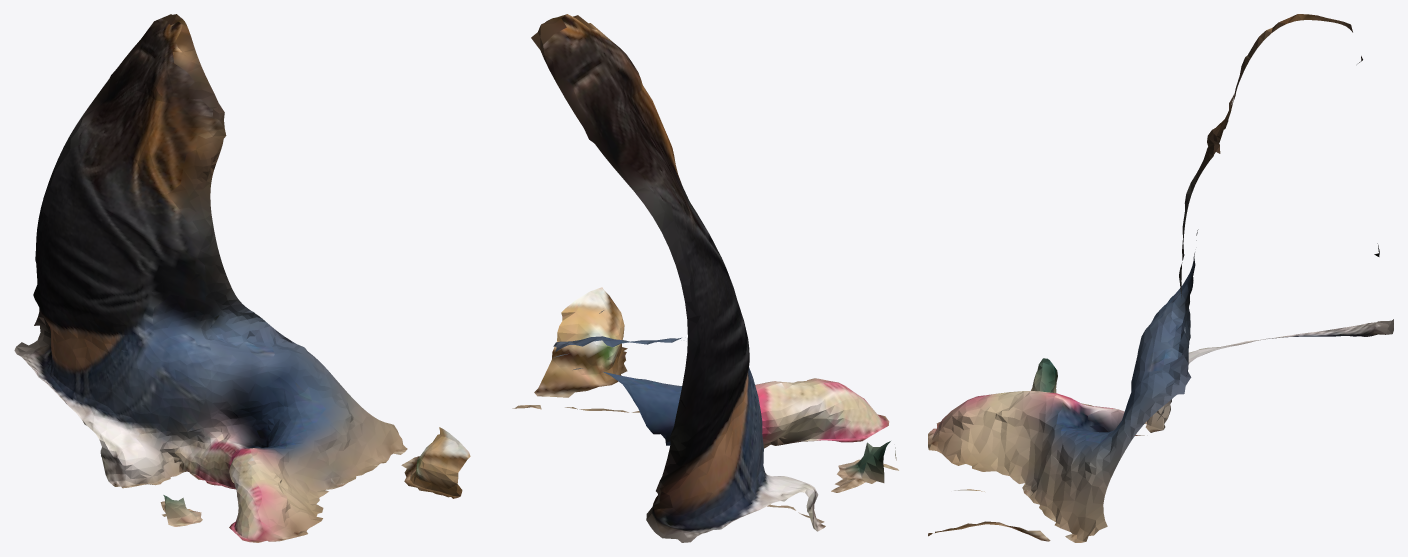
The picture shows the model from 3 angles, left to right: view 1: azimuth 30°, elevation 25°; view 2: azimuth 150°, elevation 25°; view 3: azimuth 270°, elevation 25°; orthographic projection. The views are drawn at different scales.
Size of the model in its own units: 0.5807 by 0.8291 by 0.7708.
1 material, 1 textured.
